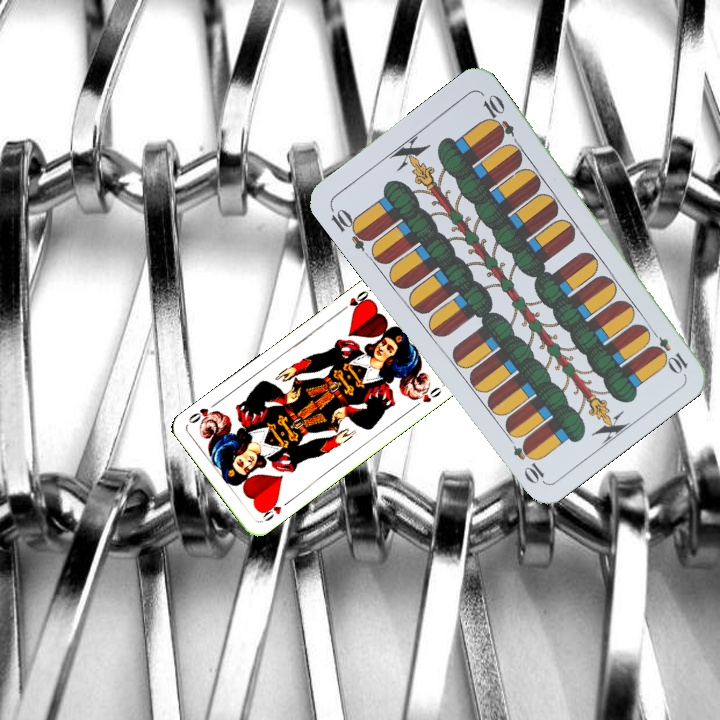E10: (644, 324, 691, 376), (326, 203, 374, 253)
HO: (336, 286, 371, 315), (257, 496, 293, 524)
